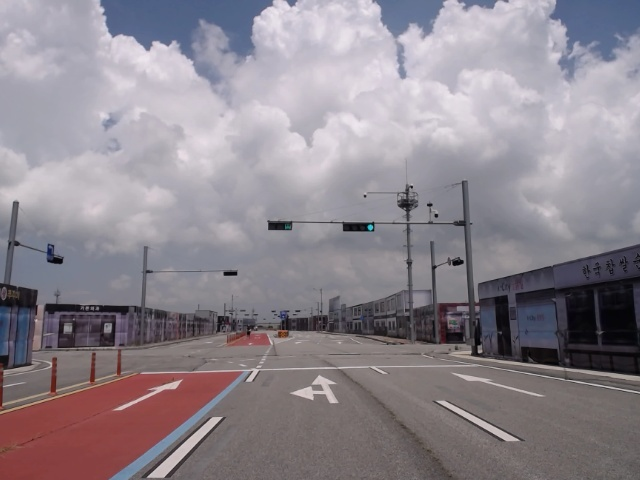straight_green_4: (341, 222, 377, 233)
